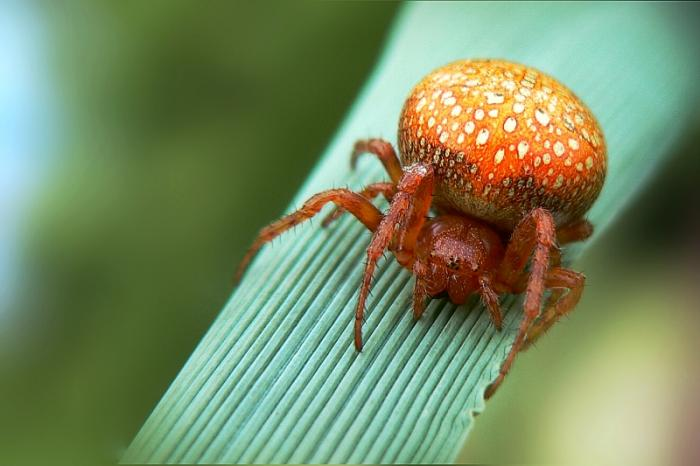spider: (202, 33, 638, 410)
